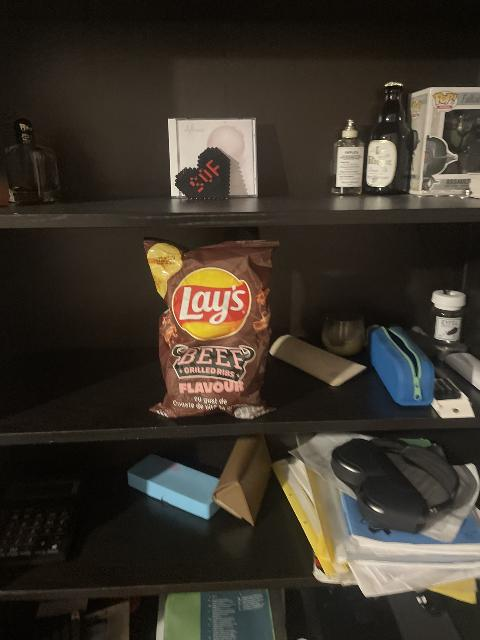Lays Beef Grilled Ribs 125g: (143, 241, 281, 421)
